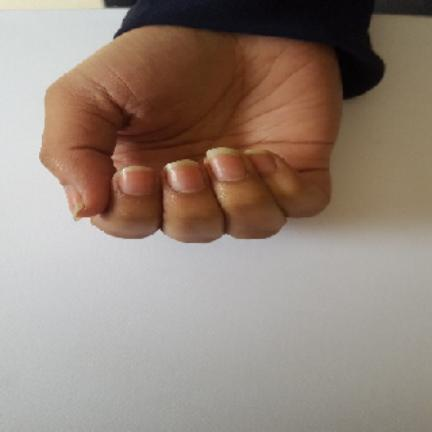Nail: (206, 147, 246, 181), (166, 160, 204, 193), (118, 166, 155, 197), (65, 185, 85, 221), (244, 150, 274, 173)
